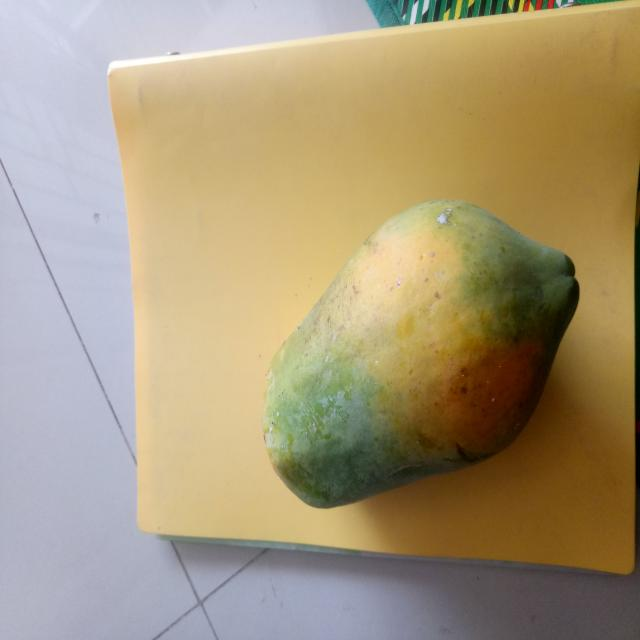Pepaya rippen: (245, 192, 581, 504)
